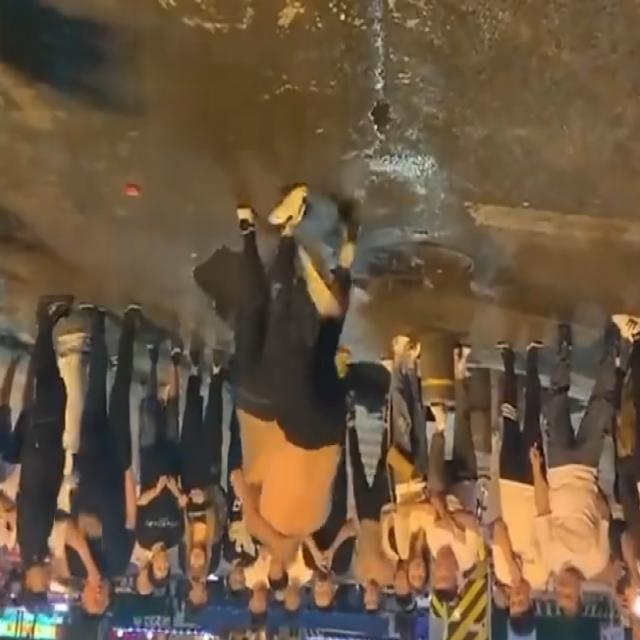fight: (226, 184, 364, 551)
nofight: (60, 286, 144, 620), (541, 329, 625, 617), (14, 291, 78, 600), (486, 331, 539, 636), (422, 348, 481, 606), (126, 351, 185, 576), (180, 344, 233, 576), (390, 340, 430, 606), (354, 406, 396, 616)
